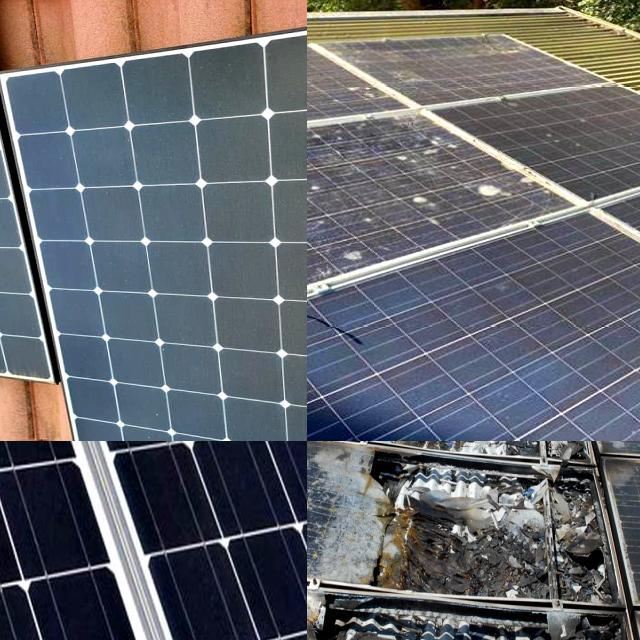bird: (358, 132, 466, 174), (340, 72, 413, 108), (307, 53, 368, 96), (472, 160, 506, 216), (307, 119, 348, 159), (307, 172, 336, 224), (385, 186, 436, 212), (322, 242, 369, 270), (307, 270, 329, 314), (307, 43, 336, 74), (307, 177, 328, 206), (307, 74, 322, 110)
crack: (0, 441, 307, 640), (0, 441, 242, 640)
dust: (44, 170, 212, 373), (7, 63, 255, 135), (108, 405, 249, 441), (285, 112, 307, 238), (291, 254, 307, 407), (273, 47, 307, 108)
shadow: (348, 441, 625, 608), (307, 579, 616, 640), (376, 441, 596, 500), (401, 441, 573, 472), (440, 441, 539, 486), (420, 441, 570, 462)
